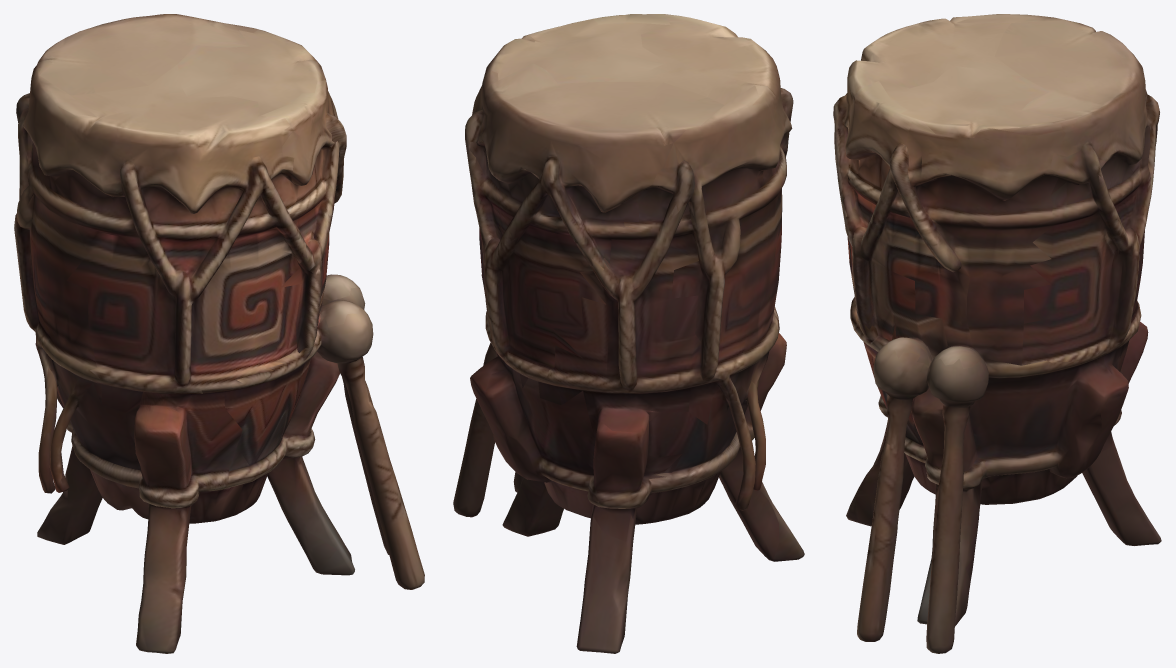
The model's file is p3_02_tambor.glb.
The picture shows the model from 3 angles, left to right: view 1: azimuth 30°, elevation 25°; view 2: azimuth 150°, elevation 25°; view 3: azimuth 270°, elevation 25°; orthographic projection. The views are drawn at different scales.
Parts seen in each view (by area): view 1: p3_02_tambor; view 2: p3_02_tambor; view 3: p3_02_tambor.
Part boxes in pixels (x1,y1,x2,y2): p3_02_tambor: (14,14,424,653); p3_02_tambor: (453,14,804,653); p3_02_tambor: (833,14,1161,653).
Bounding box in the file's own units: 0.8194 × 1.15 × 0.6944.
1 material, 1 textured.
